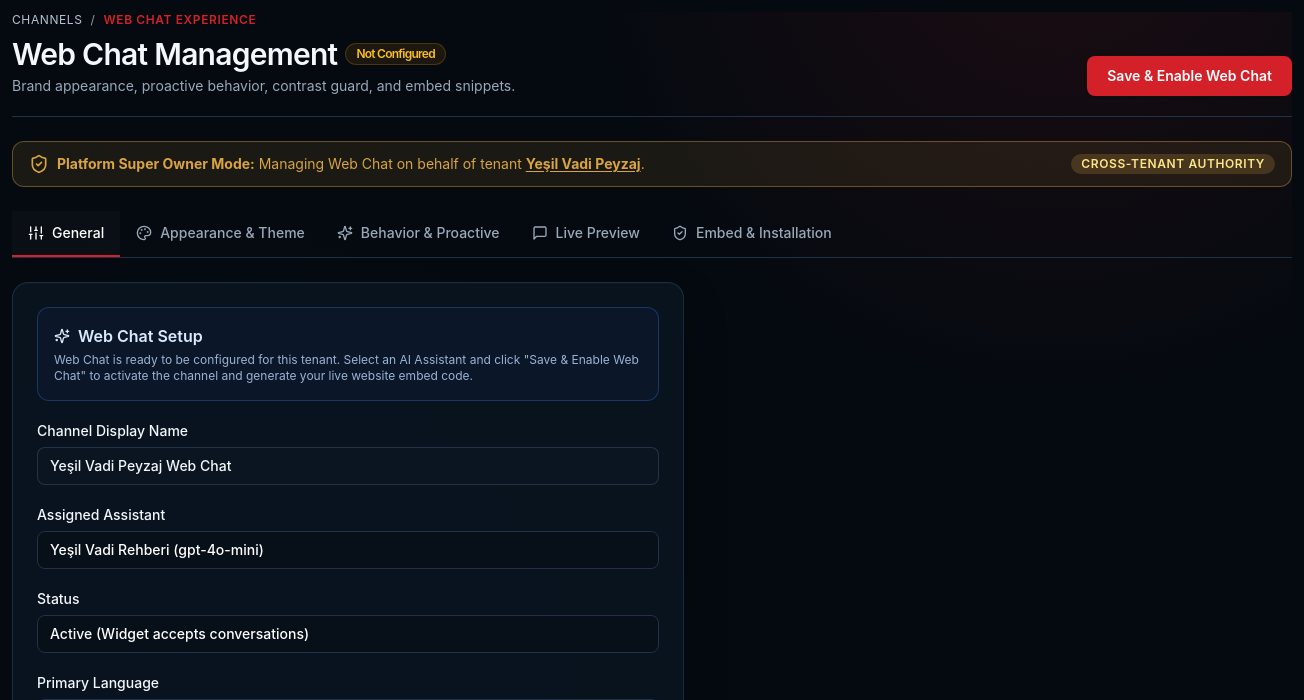
Test case: WebChatManagement Component › renders unconfigured tenant setup state smoothly without Not Found error
Expected: the heading "Web Chat Management Not Configured" is shown, [12,36,515,72]
Expected: the text "Not Configured" is shown, [345,43,446,65]
Click the button "Embed & Installation" at (752, 234), box [656,211,848,257]
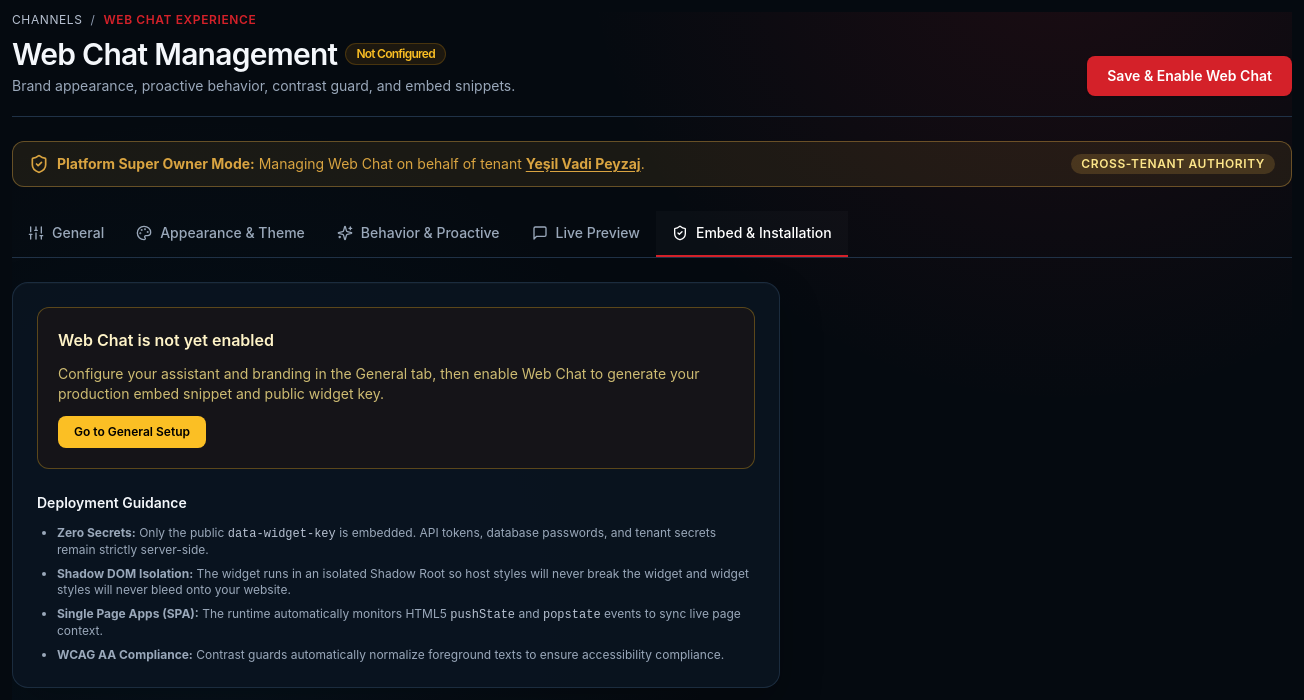
Result: the heading "Web Chat is not yet enabled" is shown at [58,330,274,350]
Result: the button "Go to General Setup" is shown at [58,416,206,448]
